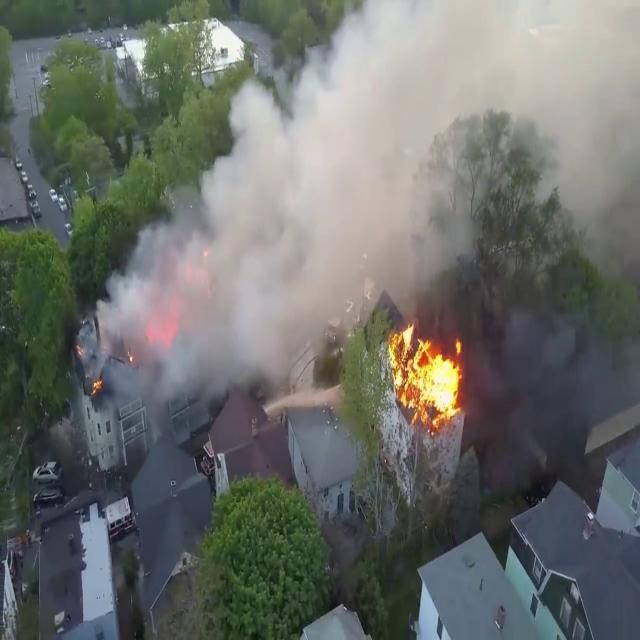Fire: (382, 311, 468, 428)
Smoke: (98, 0, 640, 429), (98, 5, 424, 428)
